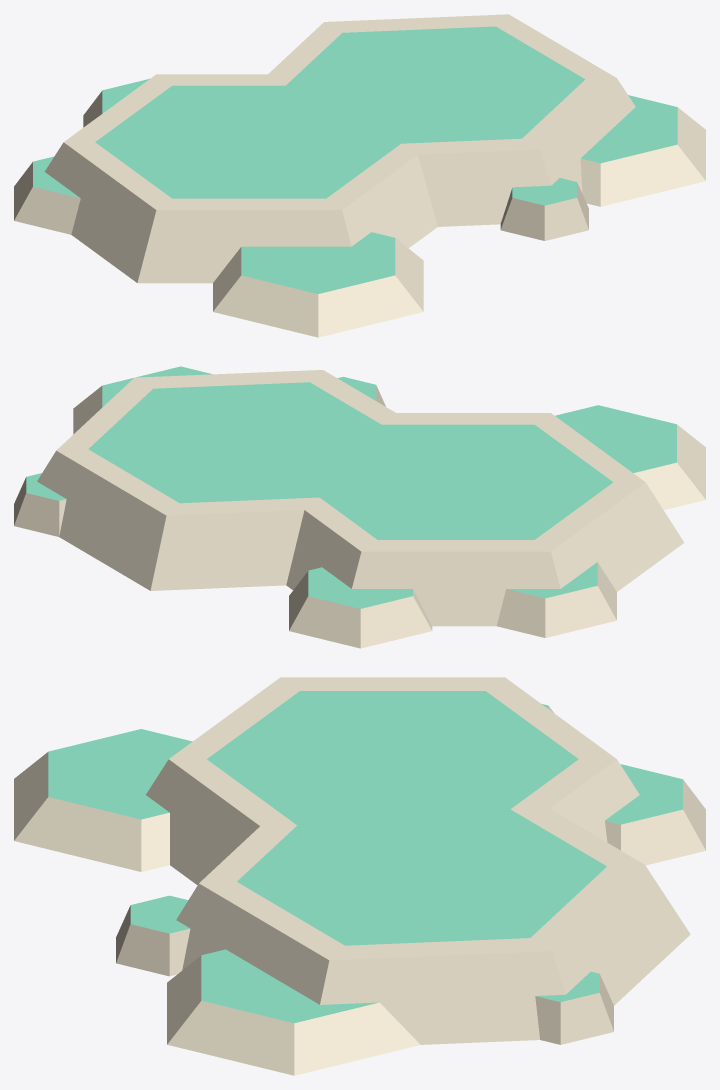
Rendered from rockFlatGrass.glb.
3 renders of one model, top to bottom at view 1: azimuth 30°, elevation 25°; view 2: azimuth 150°, elevation 25°; view 3: azimuth 270°, elevation 25°, orthographic. The views are drawn at different scales.
Visible parts, largest first — view 1: rockFlatGrass; view 2: rockFlatGrass; view 3: rockFlatGrass.
Part boxes in pixels (<box>): rockFlatGrass: <box>14,14,705,337</box>; rockFlatGrass: <box>14,366,705,648</box>; rockFlatGrass: <box>14,677,705,1075</box>.
Size of the model in its own units: 7.15 by 0.66 by 5.79.
